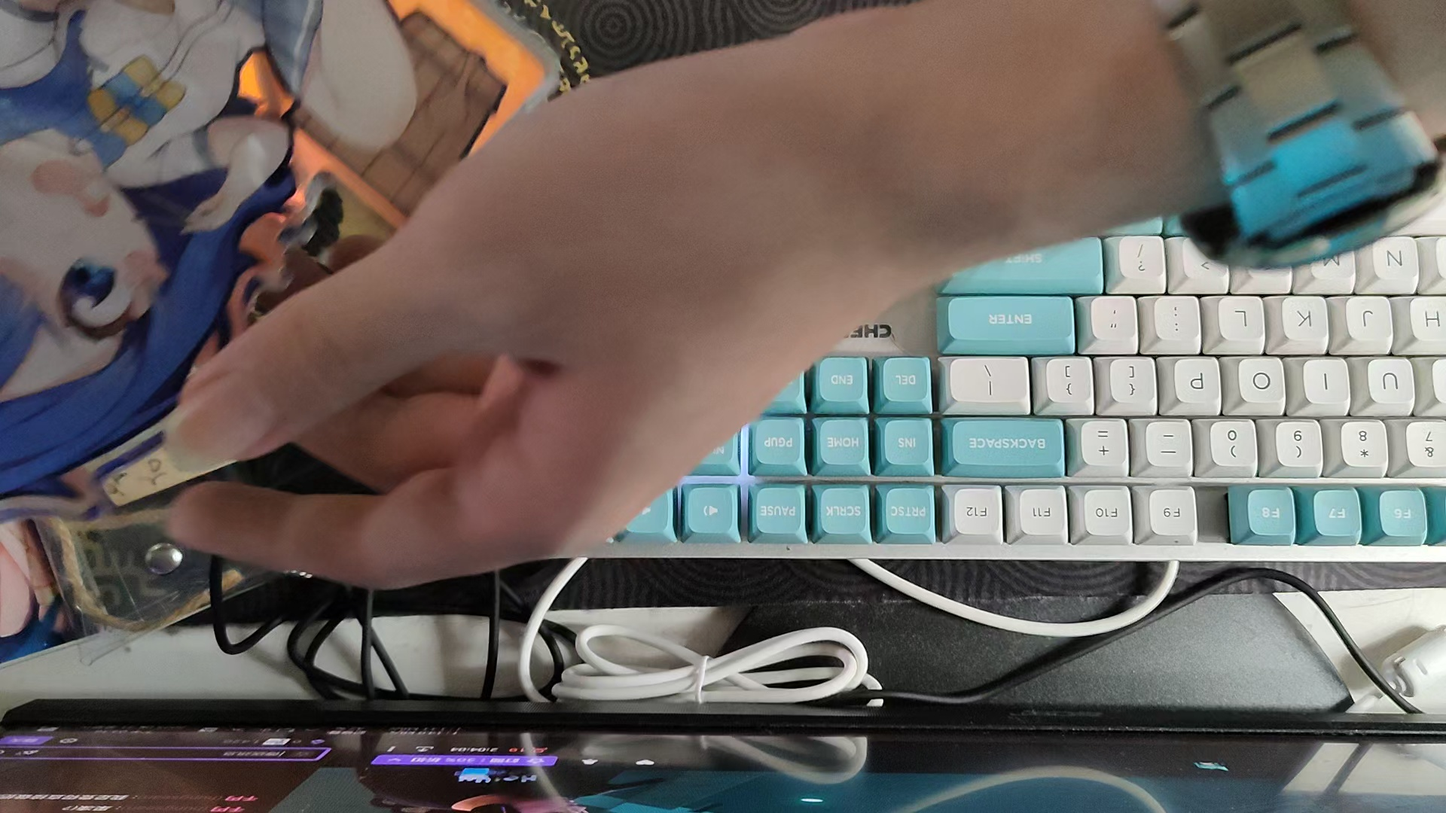Yanami-anna: (0, 0, 561, 525)
